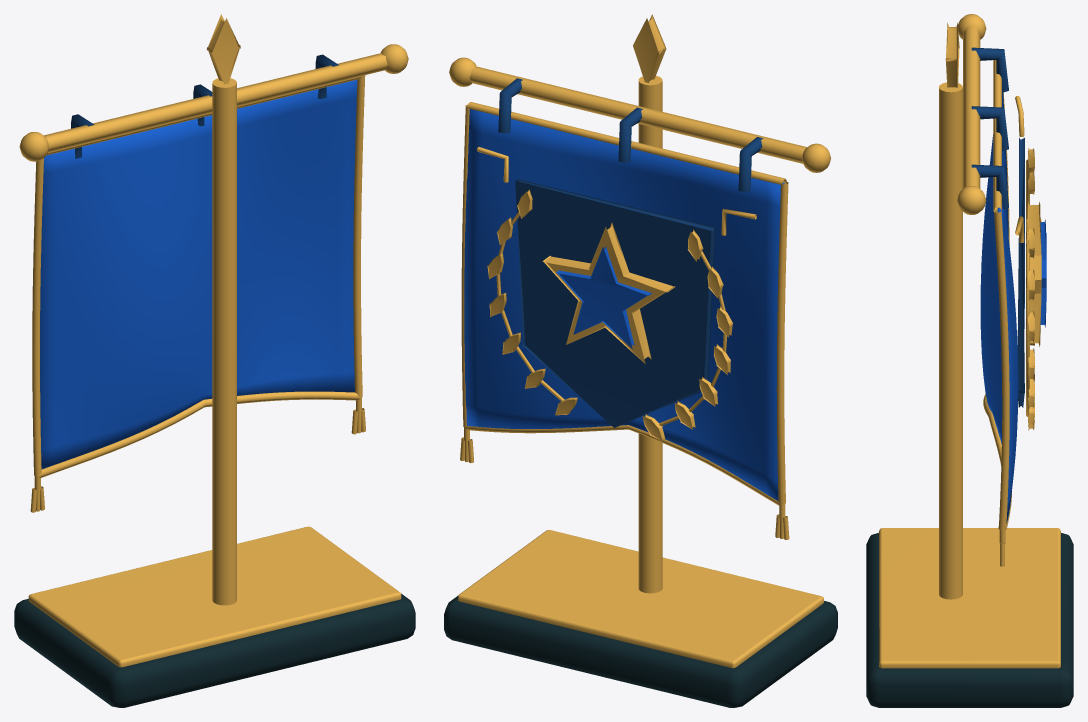
File: chess.banner.crest-king.glb
3 renders of one model, left to right at view 1: azimuth 30°, elevation 25°; view 2: azimuth 150°, elevation 25°; view 3: azimuth 270°, elevation 25°, orthographic. The views are drawn at different scales.
Visible parts, largest first — view 1: woven_banner, banner_foot_rim, banner_foot, banner_pole, banner_crossbar, braided_banner_edge.002, braided_banner_edge.003, braided_banner_edge.001, spear_finial, braided_banner_edge, crossbar_end.001; view 2: woven_banner, embroidered_shield, banner_foot_rim, banner_foot, banner_crossbar, banner_pole, banner_raised_crest, banner_crest_inset, braided_banner_edge.003, braided_banner_edge, braided_banner_edge.001, spear_finial (+5 smaller); view 3: banner_foot_rim, banner_pole, banner_foot, woven_banner, banner_crossbar, braided_banner_edge.002, embroidered_shield, banner_raised_crest, braided_banner_edge, spear_finial, crossbar_end, cloth_hanger.001 (+6 smaller).
Boxes of the visible parts, bbox=[...] form: woven_banner: bbox=[40, 79, 357, 469]; banner_foot_rim: bbox=[28, 526, 401, 667]; banner_foot: bbox=[14, 593, 415, 707]; banner_pole: bbox=[212, 78, 236, 605]; banner_crossbar: bbox=[44, 53, 387, 152]; braided_banner_edge.002: bbox=[353, 75, 365, 397]; braided_banner_edge.003: bbox=[32, 158, 43, 476]; braided_banner_edge.001: bbox=[39, 391, 360, 477]; spear_finial: bbox=[206, 14, 240, 84]; braided_banner_edge: bbox=[46, 75, 363, 155]; crossbar_end.001: bbox=[19, 132, 48, 161]; woven_banner: bbox=[464, 109, 784, 500]; embroidered_shield: bbox=[515, 179, 715, 427]; banner_foot_rim: bbox=[458, 530, 823, 668]; banner_foot: bbox=[444, 595, 837, 707]; banner_crossbar: bbox=[469, 66, 807, 163]; banner_pole: bbox=[638, 75, 662, 593]; banner_raised_crest: bbox=[542, 222, 675, 363]; banner_crest_inset: bbox=[556, 246, 652, 348]; braided_banner_edge.003: bbox=[776, 181, 788, 504]; braided_banner_edge: bbox=[467, 102, 786, 184]; braided_banner_edge.001: bbox=[464, 425, 779, 505]; spear_finial: bbox=[633, 14, 666, 82]; banner_foot_rim: bbox=[879, 528, 1060, 668]; banner_pole: bbox=[939, 82, 962, 599]; banner_foot: bbox=[866, 533, 1073, 707]; woven_banner: bbox=[980, 92, 1018, 523]; banner_crossbar: bbox=[963, 26, 980, 188]; braided_banner_edge.002: bbox=[994, 209, 1009, 530]; embroidered_shield: bbox=[1017, 137, 1024, 407]; banner_raised_crest: bbox=[1026, 201, 1041, 346]; braided_banner_edge: bbox=[993, 60, 1001, 211]; spear_finial: bbox=[945, 22, 959, 87]; crossbar_end: bbox=[957, 186, 986, 214]; cloth_hanger.001: bbox=[971, 106, 1008, 150].
Bounding box in the file's own units: 0.8302 × 1.3 × 0.3953.
